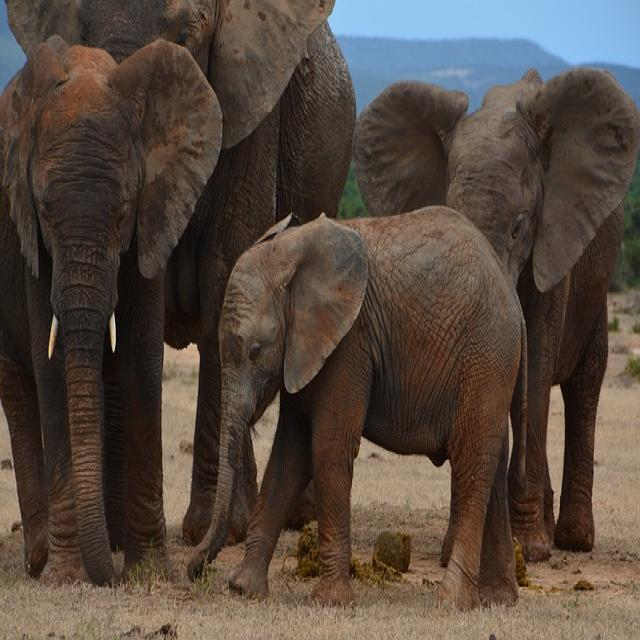elephant: (355, 68, 640, 561), (189, 206, 525, 608), (0, 36, 221, 584)
